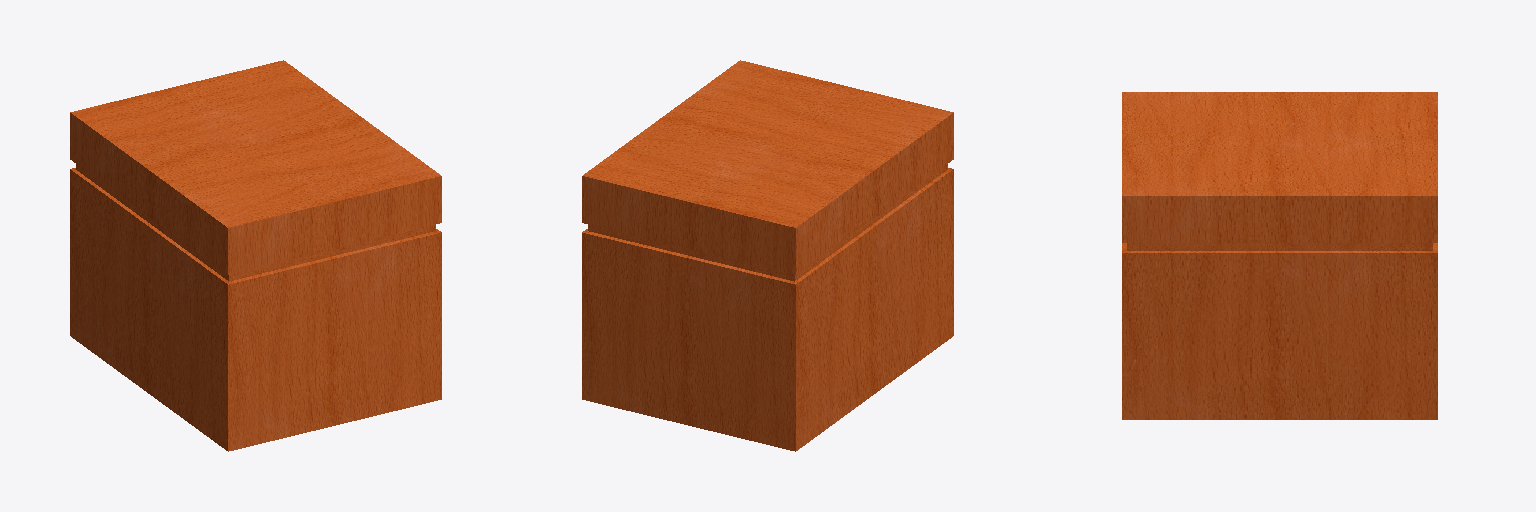
The picture shows the model from 3 angles: view 1: azimuth 30°, elevation 25°; view 2: azimuth 150°, elevation 25°; view 3: azimuth 270°, elevation 25°; orthographic projection.
Size of the model in its own units: 200 by 200 by 256.
Materials: 1 (1 with a texture image).